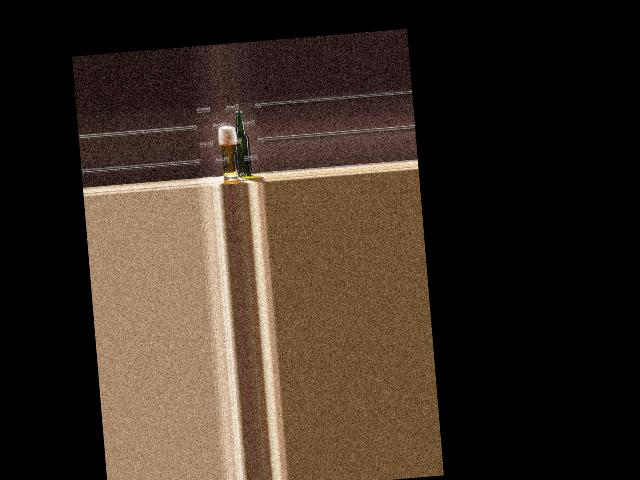beer: (231, 110, 251, 177)
